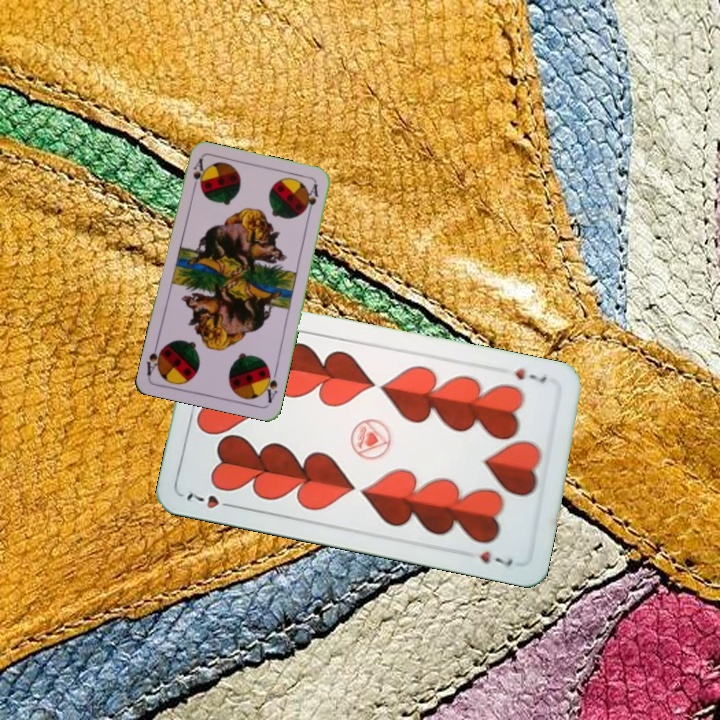H7: (182, 487, 238, 512), (510, 364, 550, 386)
SA: (260, 364, 280, 406), (188, 155, 206, 195)
